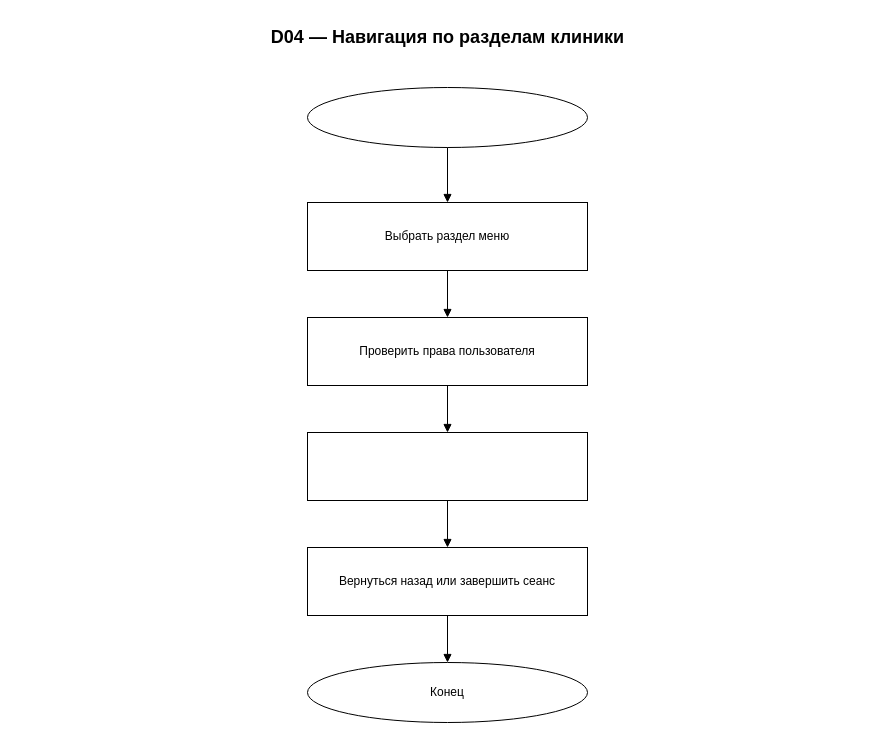
Some shapes in this 894 by 740 pixel diagram are drawn without their labels. Each missing label, with the centre of its shape:
"Начало: главная страница" belongs at (x=447, y=117).
"Открыть разрешённый раздел" belongs at (x=447, y=466).
